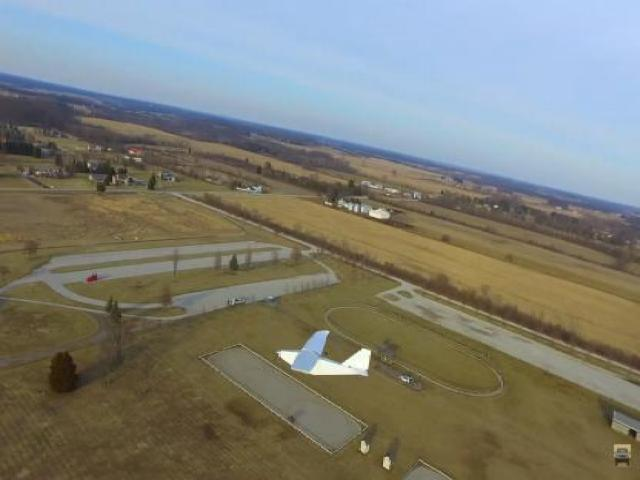uav: (272, 319, 378, 394)
